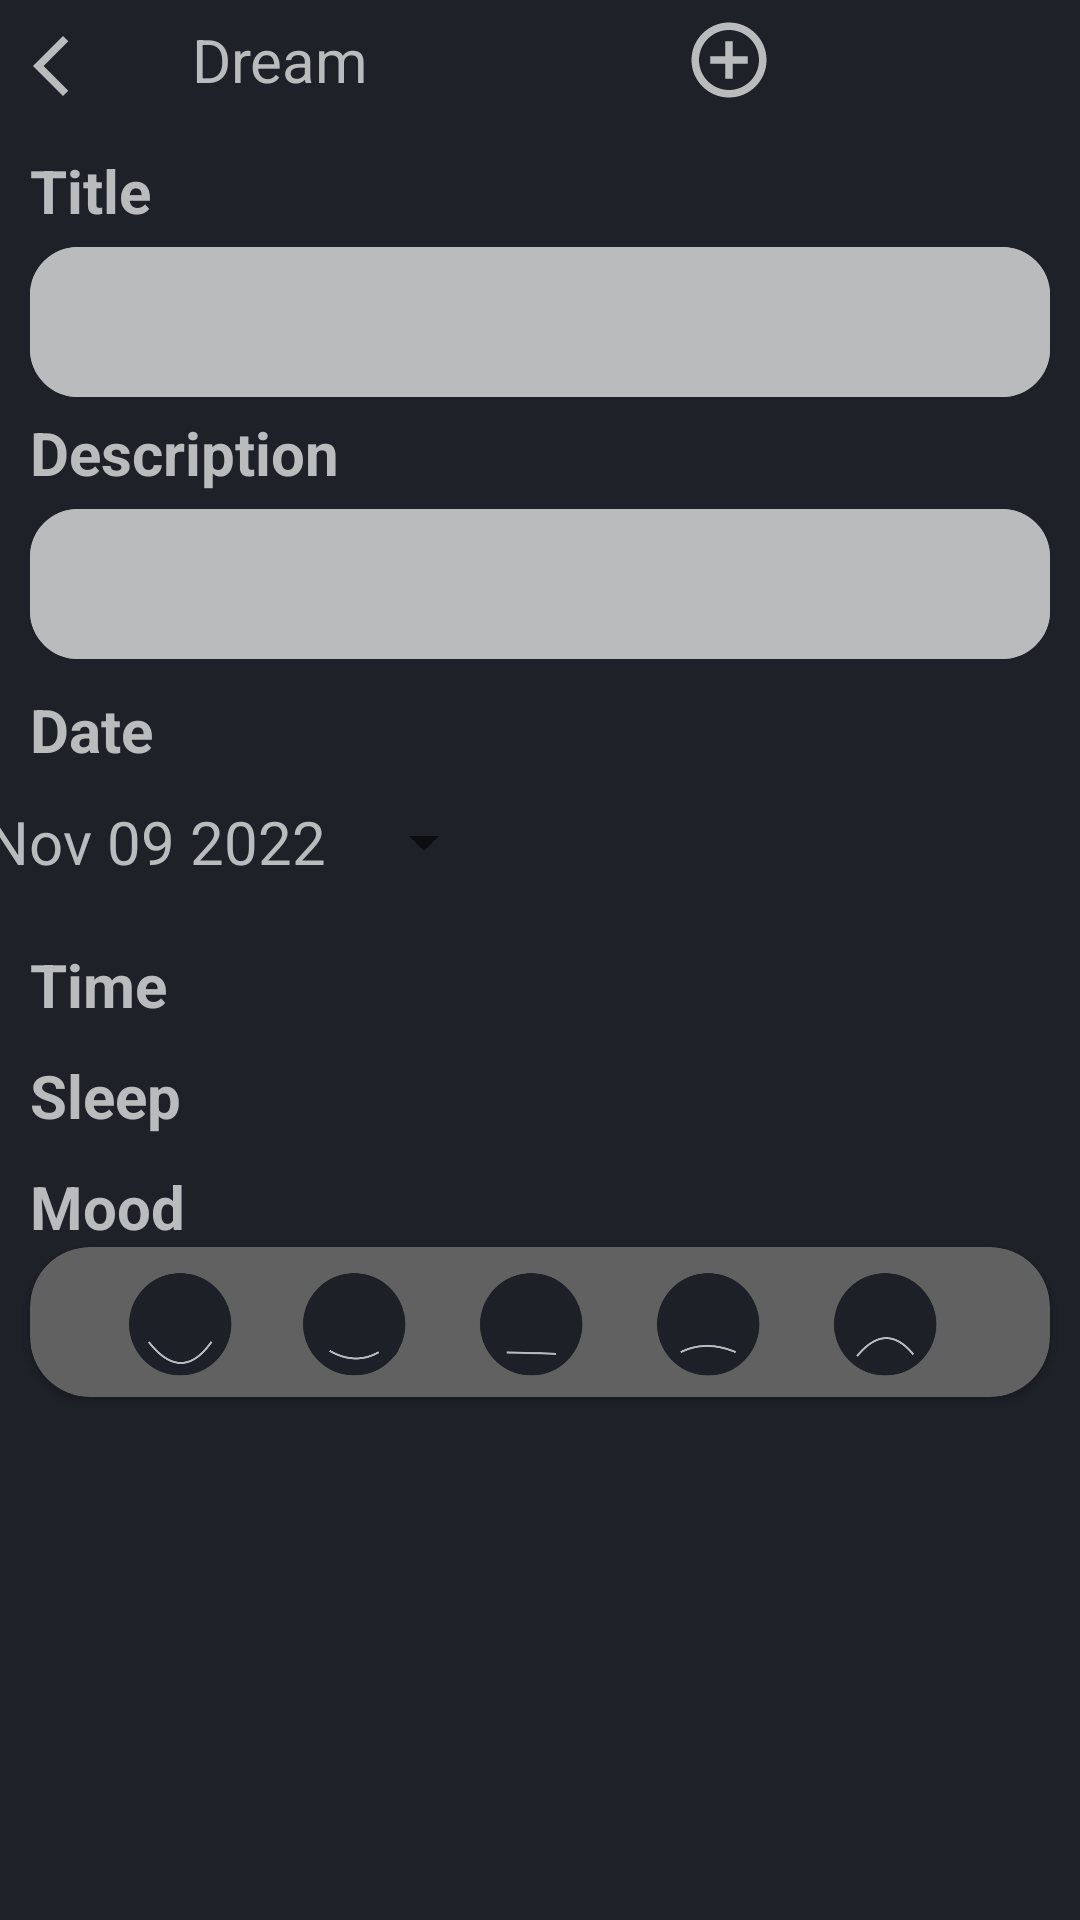

Screen size 1080px x 1920px. Icon name, then its center in pixels as point (x, y):
add dream: point (729, 60)
amizingdisable: point (180, 1324)
back: point (50, 66)
badendisable: point (885, 1324)
badnormaldisable: point (708, 1324)
gooddisable: point (354, 1324)
normaldisable: point (531, 1324)
